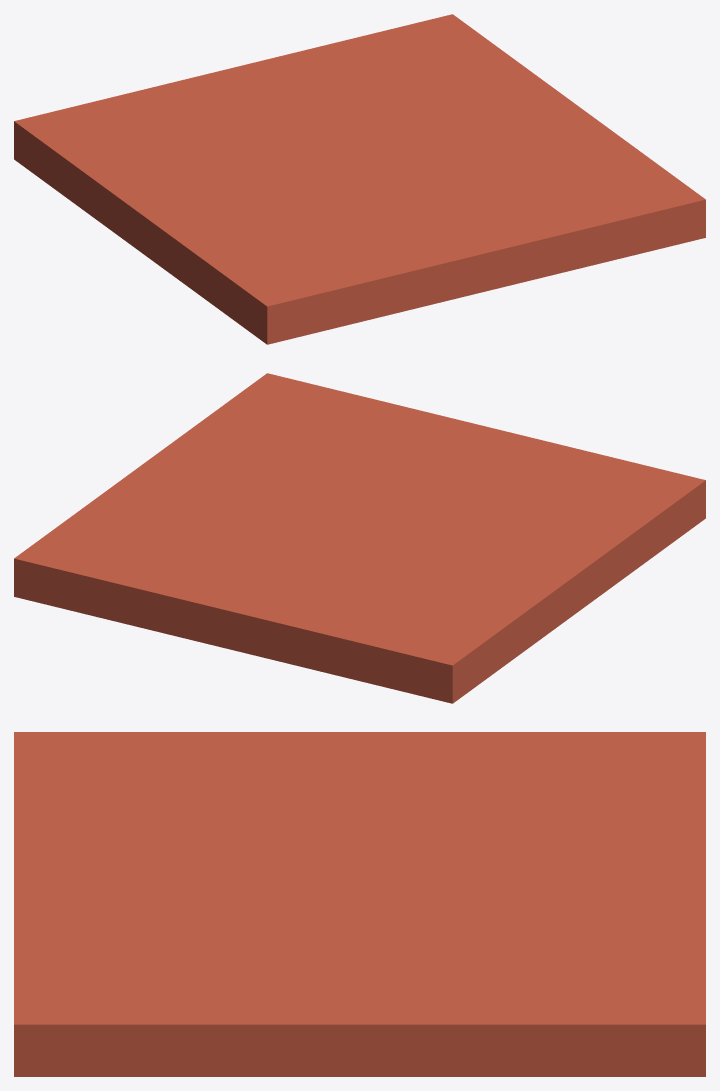
File: Kit_Brick_Floor_Fractured.fbx
The picture shows the model from 3 angles, top to bottom: view 1: azimuth 30°, elevation 25°; view 2: azimuth 150°, elevation 25°; view 3: azimuth 270°, elevation 25°; orthographic projection. The views are drawn at different scales.
Visible parts, largest first — view 1: Kit_Brick_Floor_frag_01, Kit_Brick_Floor_frag_05, Kit_Brick_Floor_frag_13, Kit_Brick_Floor_frag_04, Kit_Brick_Floor_frag_09, Kit_Brick_Floor_frag_03, Kit_Brick_Floor_frag_02, Kit_Brick_Floor_frag_15, Kit_Brick_Floor_frag_07, Kit_Brick_Floor_frag_14, Kit_Brick_Floor_frag_11, Kit_Brick_Floor_frag_16 (+4 smaller); view 2: Kit_Brick_Floor_frag_04, Kit_Brick_Floor_frag_16, Kit_Brick_Floor_frag_08, Kit_Brick_Floor_frag_03, Kit_Brick_Floor_frag_12, Kit_Brick_Floor_frag_01, Kit_Brick_Floor_frag_02, Kit_Brick_Floor_frag_05, Kit_Brick_Floor_frag_15, Kit_Brick_Floor_frag_07, Kit_Brick_Floor_frag_14, Kit_Brick_Floor_frag_11 (+4 smaller); view 3: Kit_Brick_Floor_frag_14, Kit_Brick_Floor_frag_16, Kit_Brick_Floor_frag_13, Kit_Brick_Floor_frag_15, Kit_Brick_Floor_frag_04, Kit_Brick_Floor_frag_05, Kit_Brick_Floor_frag_07, Kit_Brick_Floor_frag_02, Kit_Brick_Floor_frag_11, Kit_Brick_Floor_frag_09, Kit_Brick_Floor_frag_03, Kit_Brick_Floor_frag_01 (+4 smaller).
Part boxes in pixels (bbox=[...]): Kit_Brick_Floor_frag_01: bbox=[188, 246, 369, 344]; Kit_Brick_Floor_frag_05: bbox=[323, 210, 506, 319]; Kit_Brick_Floor_frag_13: bbox=[557, 153, 705, 265]; Kit_Brick_Floor_frag_04: bbox=[14, 92, 199, 200]; Kit_Brick_Floor_frag_09: bbox=[451, 168, 592, 286]; Kit_Brick_Floor_frag_03: bbox=[70, 152, 238, 265]; Kit_Brick_Floor_frag_02: bbox=[158, 188, 334, 286]; Kit_Brick_Floor_frag_15: bbox=[379, 62, 562, 137]; Kit_Brick_Floor_frag_07: bbox=[182, 115, 334, 188]; Kit_Brick_Floor_frag_14: bbox=[475, 94, 642, 171]; Kit_Brick_Floor_frag_11: bbox=[309, 100, 475, 166]; Kit_Brick_Floor_frag_16: bbox=[339, 14, 517, 83]; Kit_Brick_Floor_frag_04: bbox=[332, 588, 512, 703]; Kit_Brick_Floor_frag_16: bbox=[14, 511, 183, 624]; Kit_Brick_Floor_frag_08: bbox=[214, 560, 369, 674]; Kit_Brick_Floor_frag_03: bbox=[433, 549, 597, 662]; Kit_Brick_Floor_frag_12: bbox=[126, 542, 285, 645]; Kit_Brick_Floor_frag_01: bbox=[554, 455, 705, 575]; Kit_Brick_Floor_frag_02: bbox=[465, 490, 627, 597]; Kit_Brick_Floor_frag_05: bbox=[426, 422, 603, 495]; Kit_Brick_Floor_frag_15: bbox=[79, 478, 254, 543]; Kit_Brick_Floor_frag_07: bbox=[293, 528, 477, 594]; Kit_Brick_Floor_frag_14: bbox=[124, 419, 294, 488]; Kit_Brick_Floor_frag_11: bbox=[227, 483, 374, 560]; Kit_Brick_Floor_frag_14: bbox=[186, 945, 405, 1076]; Kit_Brick_Floor_frag_16: bbox=[527, 949, 705, 1076]; Kit_Brick_Floor_frag_13: bbox=[14, 949, 193, 1076]; Kit_Brick_Floor_frag_15: bbox=[345, 929, 547, 1076]; Kit_Brick_Floor_frag_04: bbox=[503, 732, 705, 821]; Kit_Brick_Floor_frag_05: bbox=[14, 800, 194, 891]; Kit_Brick_Floor_frag_07: bbox=[349, 794, 563, 883]; Kit_Brick_Floor_frag_02: bbox=[145, 732, 363, 821]; Kit_Brick_Floor_frag_11: bbox=[317, 865, 524, 951]; Kit_Brick_Floor_frag_09: bbox=[14, 886, 228, 969]; Kit_Brick_Floor_frag_03: bbox=[311, 732, 542, 798]; Kit_Brick_Floor_frag_01: bbox=[14, 732, 227, 801].
Size of what is drawn, in the model's own units: 3 by 0.25 by 3.
Materials: 2 (2 with a texture image).
